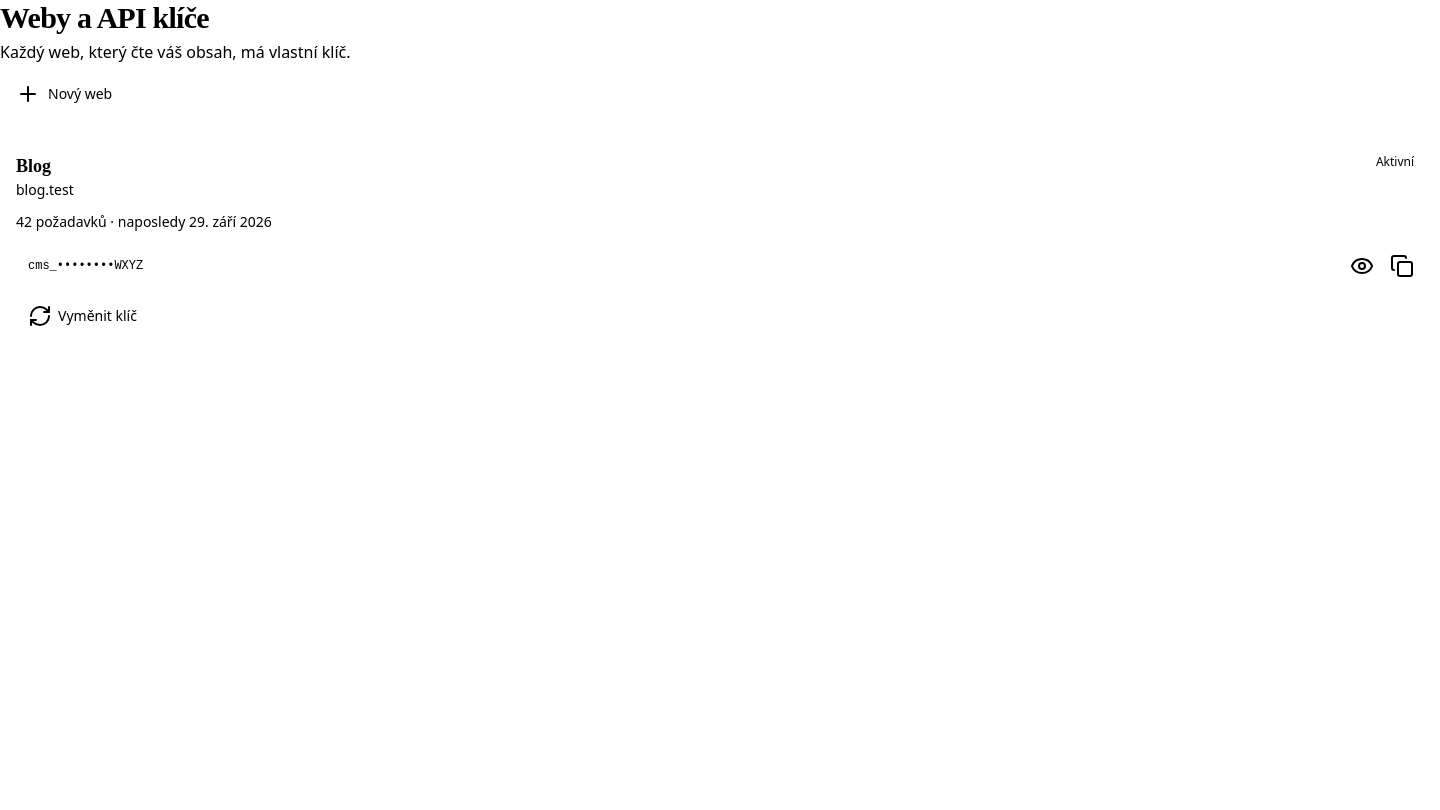
Scenario: in Czech › shows the card with Czech counts and guards rotation in Czech
Expected: the text "42 požadavků" is shown, [16,212,107,231]
Click the button "Vyměnit klíč": (82, 316) [16,300,149,332]
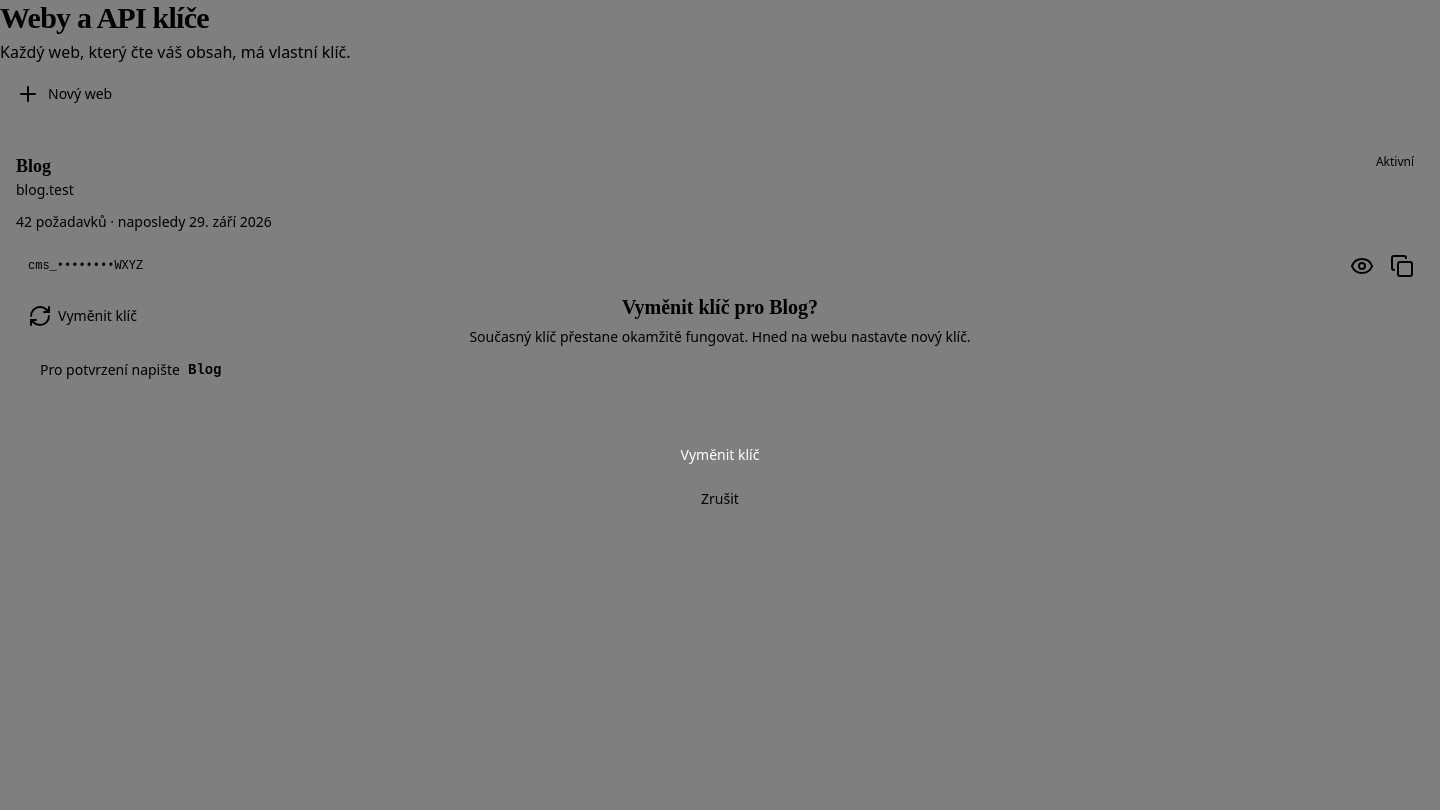
Expected: the dialog shows "přestane okamžitě fungovat", [469,327,971,346]
